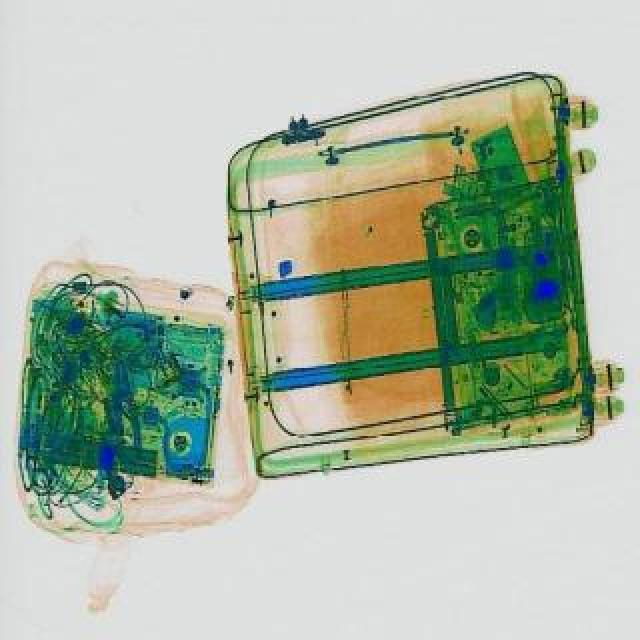wrench: (108, 358, 142, 466)
